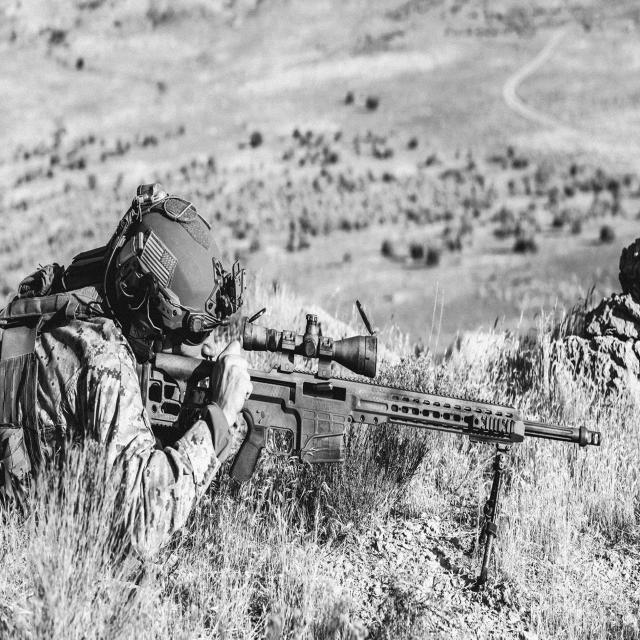weapon: (130, 283, 605, 605)
